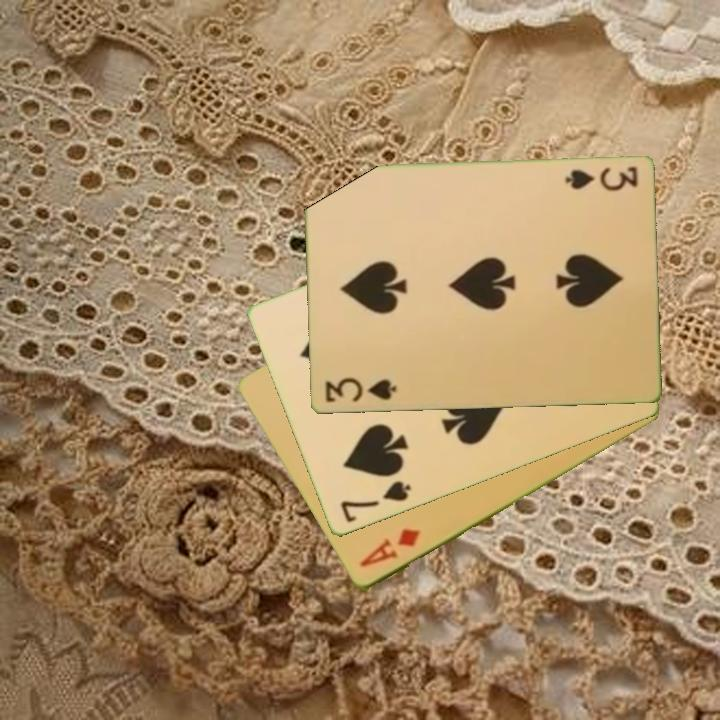3s: (561, 163, 640, 195), (321, 374, 399, 405)
7s: (336, 477, 414, 526)
Ad: (356, 525, 423, 571)
